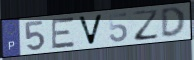5: (23, 19, 47, 52), (108, 12, 129, 44)
D: (160, 6, 188, 39)
E: (51, 16, 76, 50)
V: (76, 13, 105, 47)
Z: (131, 8, 161, 42)
